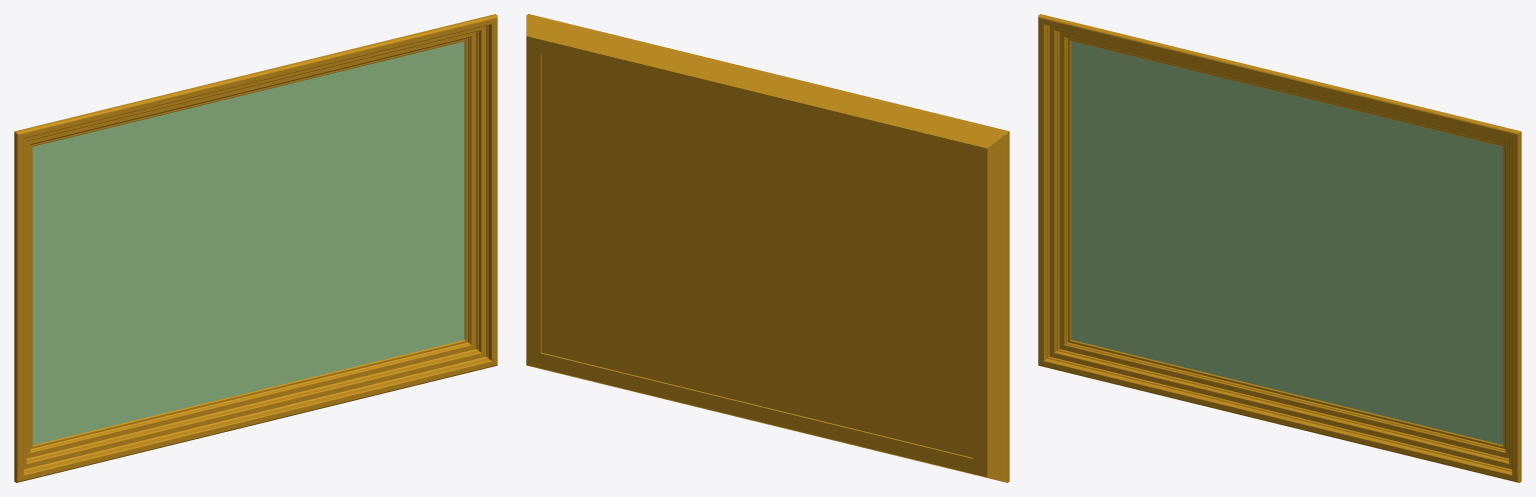
File: Painting_H_2.fbx
The picture shows the model from 3 angles, left to right: view 1: azimuth 30°, elevation 25°; view 2: azimuth 150°, elevation 25°; view 3: azimuth 330°, elevation 25°; orthographic projection.
Visible parts, largest first — view 1: SM_Painting_H_2; view 2: SM_Painting_H_2; view 3: SM_Painting_H_2.
Part boxes in pixels (left/top/right/bottom): SM_Painting_H_2: left=14, top=14, right=497, bottom=482; SM_Painting_H_2: left=526, top=14, right=1009, bottom=482; SM_Painting_H_2: left=1038, top=14, right=1521, bottom=482.
Bounding box in the file's own units: 204 × 142 × 9.56.
